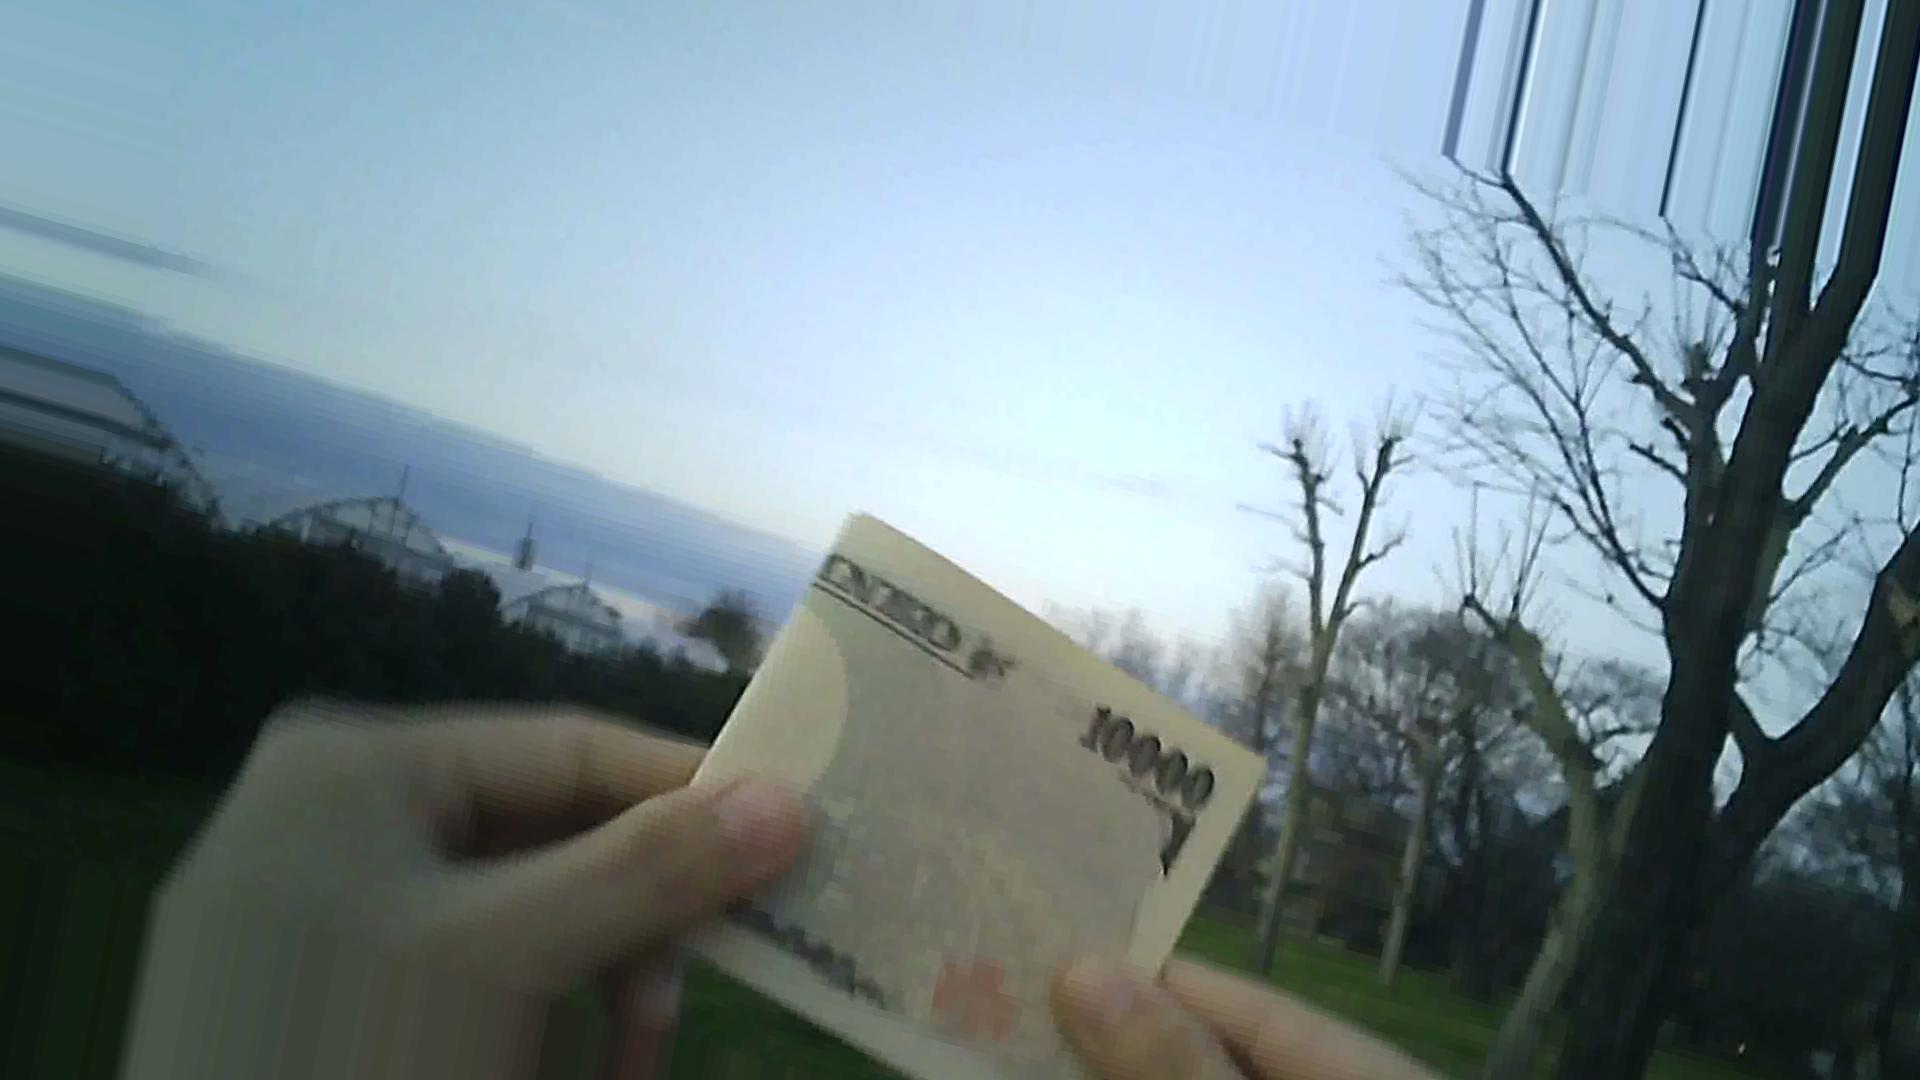10,000 Yen: (650, 495, 1250, 1064)
